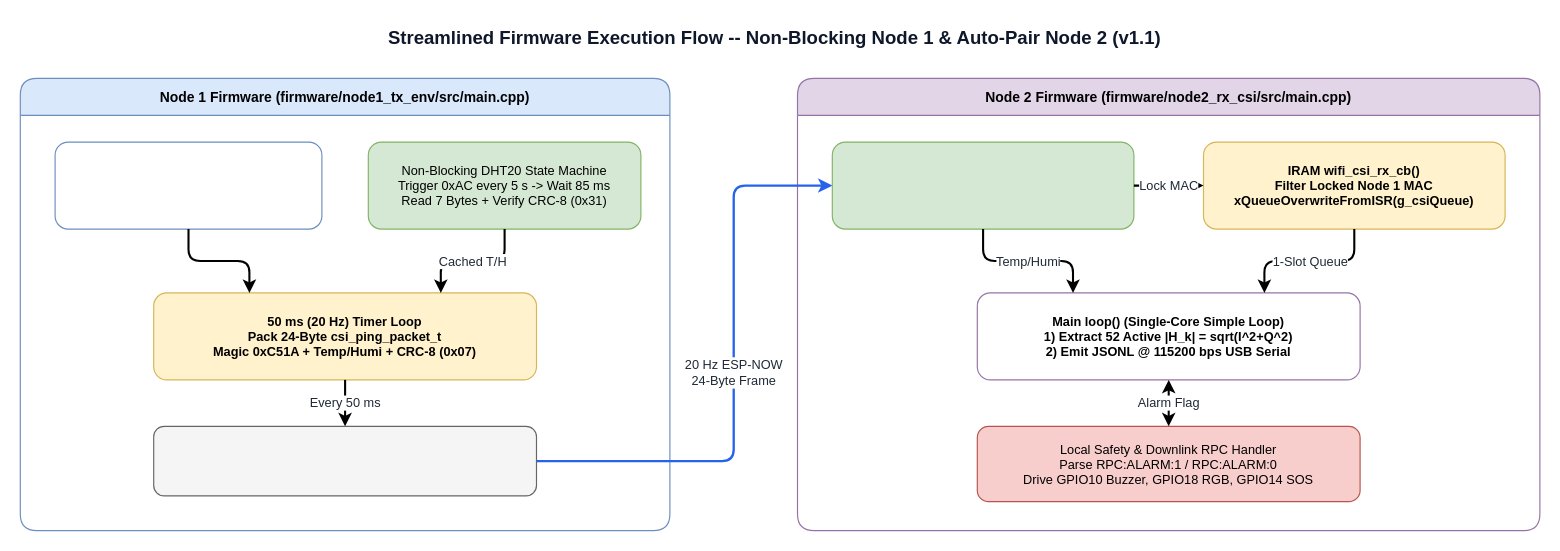
This 1560x551 diagram has some shape labels left out. The centre of each missing label's shape, as x and y in pixels:
esp_now_send() + LED Heartbeat Arduino-ESP32 v2.x & v3.x Compatible: point (344, 460)
onEspNowDataRecv() Verify 0xC51A + CRC-8 Auto-Pair MAC + Save Temp/Humi: point (982, 185)
setup(): WiFi STA Ch.6 HT20 WIFI_PS_NONE, +19.5 dBm Broadcast Peer {0xFF..0xFF}: point (188, 185)
